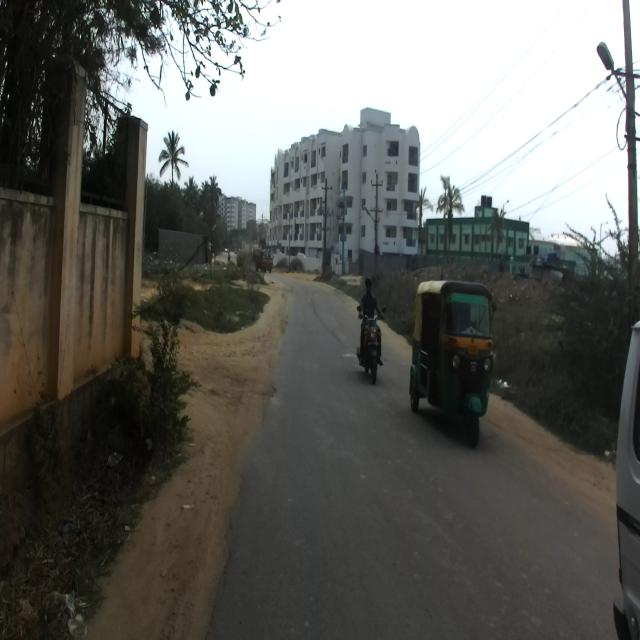auto ahead at: (409, 278, 492, 446)
